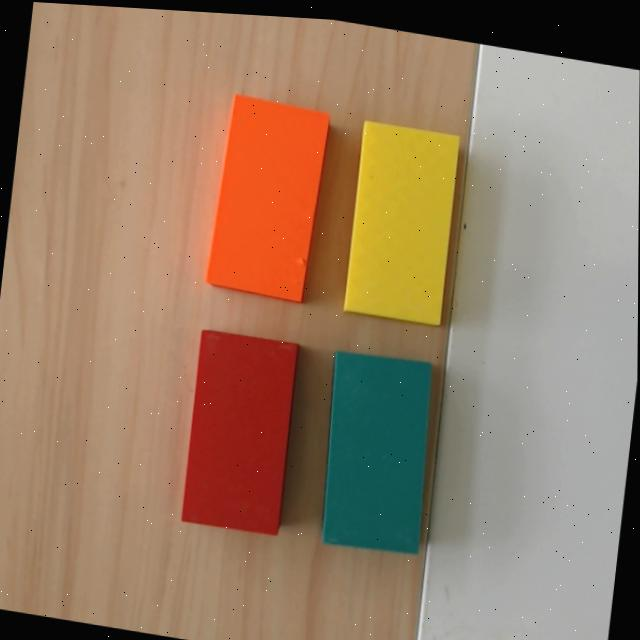Balok-Hijau-1005025: (320, 350, 431, 554)
Balok-Jingga-1005025: (204, 94, 330, 303)
Balok-Kuning-1005025: (341, 120, 460, 326)
Balok-Merah-1005025: (179, 329, 299, 536)
